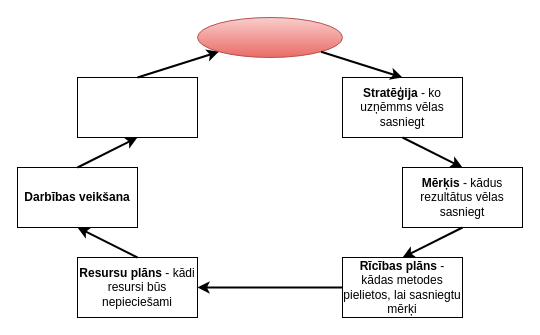
The diagram is 540 pixels wide and 335 high, and some of its shapes have lost their labels. Here are the shapes that lost their labels. From the top down, the box of each, then its label:
(196, 16, 342, 58): Vīzija un misija
(76, 76, 198, 138): Rezultāti - sasniegto rezultātu analīze, darbību plānošana
